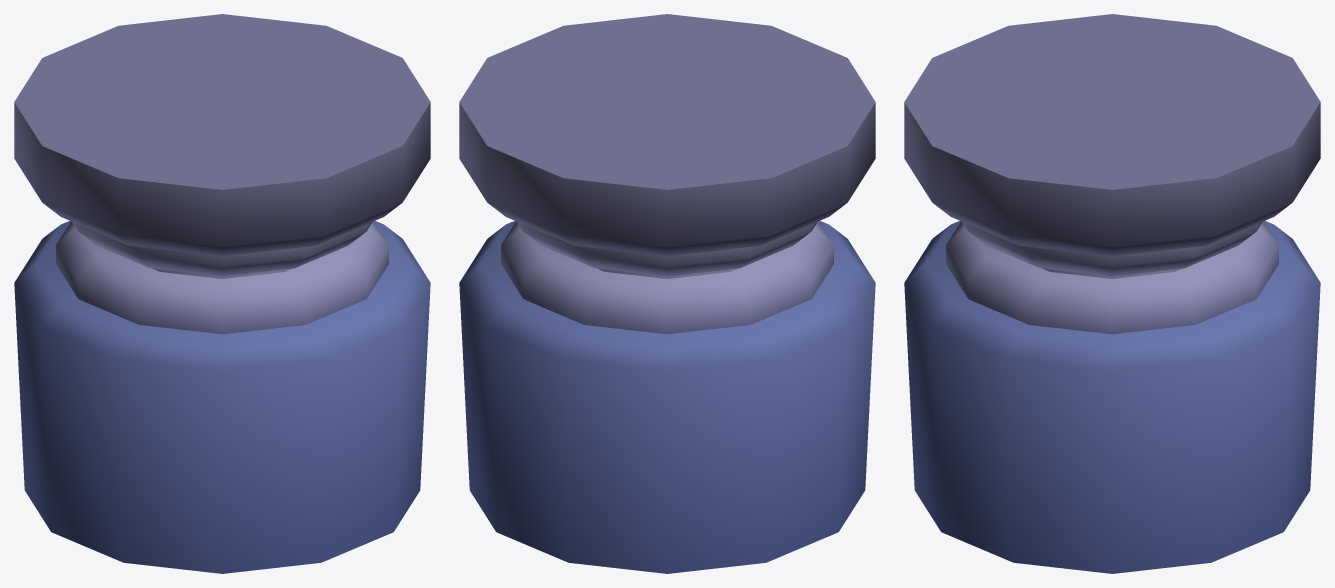
The model's file is k_piston_round.glb.
3 views of the same model, side by side, from view 1: azimuth 30°, elevation 25°; view 2: azimuth 150°, elevation 25°; view 3: azimuth 270°, elevation 25° (orthographic).
Visible parts, largest first — view 1: arm_b; view 2: arm_b; view 3: arm_b.
Boxes of the visible parts, box(x1,y1,x2,y2) form: arm_b: box(14, 14, 430, 573); arm_b: box(459, 14, 875, 573); arm_b: box(904, 14, 1320, 573).
Bounding box in the file's own units: 1.36 × 1.4 × 1.36.
1 material, 1 textured.
